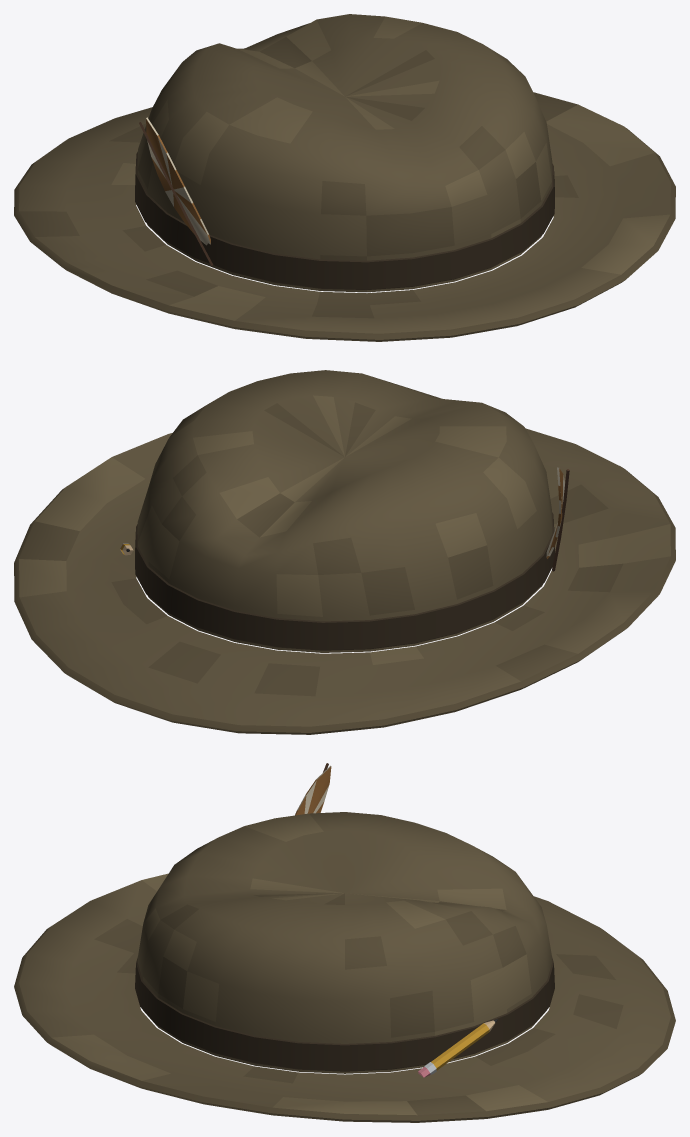
Rendered from cos_h_oldgardener.glb.
The picture shows the model from 3 angles, top to bottom: view 1: azimuth 30°, elevation 25°; view 2: azimuth 150°, elevation 25°; view 3: azimuth 270°, elevation 25°; orthographic projection. The views are drawn at different scales.
Parts seen in each view (by area): view 1: h_oldgardener; view 2: h_oldgardener; view 3: h_oldgardener.
Part boxes in pixels (x1,y1,x2,y2): h_oldgardener: (14,14,675,341); h_oldgardener: (14,370,675,734); h_oldgardener: (14,763,675,1122).
Bounding box in the file's own units: 1.15 × 0.3379 × 1.24.
